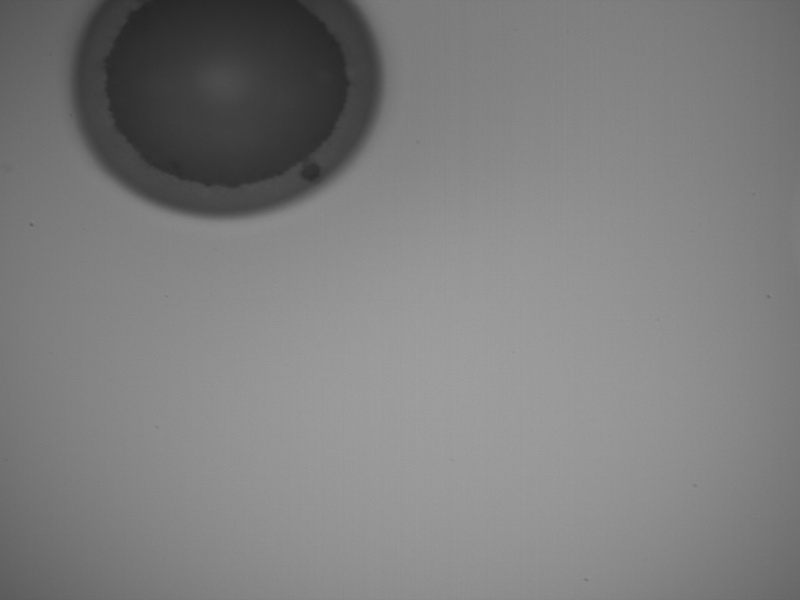bead: (66, 1, 384, 219)
